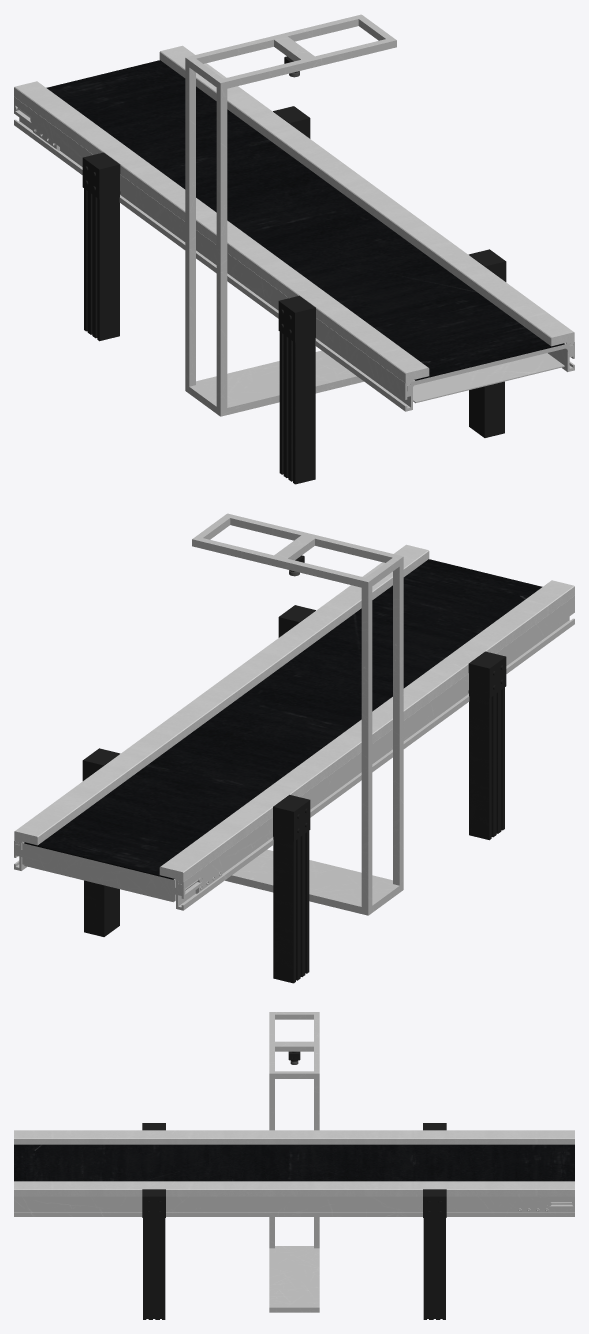
File: Inspection_Camera_Station.glb
3 renders of one model, top to bottom at view 1: azimuth 30°, elevation 25°; view 2: azimuth 150°, elevation 25°; view 3: azimuth 270°, elevation 25°, orthographic. The views are drawn at different scales.
Visible parts, largest first — view 1: color-6[2], color-5.001, color-6[4], color-6[3], color-6[5], color-7[1], color-7.001, color-6[1], color-7[2], color-6.001, color-7[3]; view 2: color-6[2], color-5.001, color-6[4], color-6[3], color-6[5], color-7.001, color-7[1], color-6.001, color-7[3], color-7[2]; view 3: color-6[2], color-6[5], color-6[3], color-6[4], color-5.001, color-7[2], color-7[3], color-6.001.
Boxes of the visible parts, x1,y1,x2,y2 form: color-6[2]: (46, 60, 564, 380); color-5.001: (185, 14, 396, 416); color-6[4]: (14, 81, 429, 385); color-6[3]: (159, 45, 574, 346); color-6[5]: (43, 118, 574, 411); color-7[1]: (278, 295, 315, 484); color-7.001: (82, 152, 120, 341); color-6[1]: (413, 353, 564, 403); color-7[2]: (468, 249, 506, 437); color-6.001: (14, 97, 59, 150); color-7[3]: (273, 106, 310, 138); color-6[2]: (24, 559, 542, 879); color-5.001: (192, 513, 403, 915); color-6[4]: (159, 580, 574, 884); color-6[3]: (14, 544, 429, 845); color-6[5]: (211, 596, 574, 889); color-7.001: (273, 794, 310, 983); color-7[1]: (468, 651, 506, 840); color-6.001: (14, 841, 222, 910); color-7[3]: (82, 748, 120, 936); color-7[2]: (278, 605, 315, 637); color-6[2]: (14, 1144, 574, 1181); color-6[5]: (14, 1196, 533, 1216); color-6[3]: (14, 1181, 574, 1196); color-6[4]: (14, 1130, 574, 1144); color-5.001: (269, 1012, 319, 1312); color-7[2]: (142, 1189, 165, 1319); color-7[3]: (423, 1189, 446, 1319); color-6.001: (516, 1196, 574, 1216).
Size of the model in its own units: 0.3155 by 0.47 by 1.
Materials: 5 (5 with a texture image).
